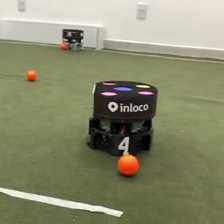ball: (115, 152, 140, 176), (26, 68, 37, 80), (60, 42, 67, 50)
goal: (1, 18, 105, 51)
robot: (84, 78, 160, 158), (61, 27, 85, 50)
